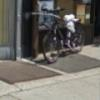bicycles: (40, 5, 84, 63)
